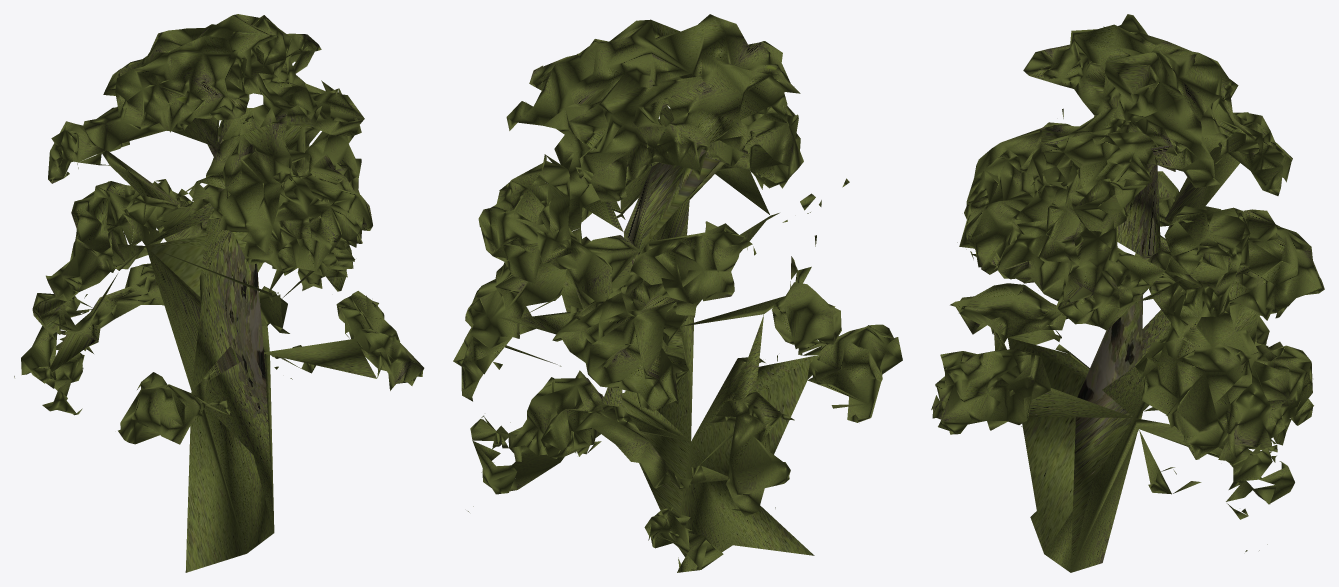
The model's file is tree-a-lod.glb.
The picture shows the model from 3 angles, left to right: view 1: azimuth 30°, elevation 25°; view 2: azimuth 150°, elevation 25°; view 3: azimuth 270°, elevation 25°; orthographic projection. The views are drawn at different scales.
Size of the model in its own units: 1.3 by 1.96 by 1.32.
Materials: 1 (1 with a texture image).
